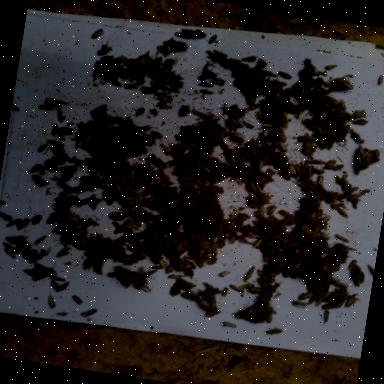pbw: (177, 124, 203, 136), (290, 76, 306, 94), (348, 128, 366, 144), (270, 126, 288, 142), (88, 193, 103, 212), (30, 174, 50, 188), (254, 268, 272, 283), (97, 38, 112, 56), (168, 256, 183, 274), (13, 240, 32, 254), (78, 218, 97, 232), (320, 300, 342, 312), (132, 282, 154, 294), (134, 122, 156, 134), (236, 80, 258, 92), (258, 190, 274, 206), (32, 247, 48, 263), (252, 64, 268, 80), (268, 150, 284, 166), (301, 212, 317, 228), (196, 294, 212, 310), (120, 270, 136, 286), (80, 306, 98, 320), (60, 162, 78, 176), (231, 311, 256, 321), (121, 136, 140, 149), (132, 210, 152, 222), (156, 39, 172, 54), (250, 220, 270, 232), (268, 112, 284, 127), (301, 140, 316, 156), (243, 264, 256, 282), (286, 162, 299, 180), (335, 77, 354, 89), (144, 65, 163, 77), (180, 170, 196, 184), (300, 242, 316, 256), (328, 201, 348, 212), (351, 156, 362, 176), (4, 232, 24, 243), (304, 134, 328, 143), (140, 268, 158, 280), (258, 170, 276, 182), (348, 192, 366, 204), (274, 228, 292, 240), (91, 25, 105, 40), (270, 279, 284, 294), (336, 123, 350, 138), (352, 107, 368, 120), (302, 57, 318, 70), (92, 62, 108, 75), (154, 179, 166, 196), (284, 86, 301, 98), (176, 278, 196, 288), (336, 242, 358, 251), (52, 202, 70, 213), (224, 56, 238, 70), (164, 38, 178, 52), (244, 178, 258, 192), (344, 258, 358, 272), (256, 276, 270, 290), (81, 256, 94, 271), (91, 260, 104, 275), (316, 260, 331, 273), (46, 292, 58, 308), (244, 101, 260, 113), (128, 220, 144, 232), (204, 306, 220, 318), (292, 162, 304, 178), (163, 186, 179, 198), (279, 216, 295, 228), (361, 150, 371, 169), (291, 298, 310, 308), (297, 290, 314, 301), (333, 232, 350, 243), (111, 253, 128, 264), (113, 222, 126, 236), (28, 213, 42, 226), (100, 191, 113, 205), (264, 95, 278, 108), (236, 62, 249, 76), (264, 326, 282, 336), (51, 227, 71, 236), (198, 226, 210, 241), (38, 268, 56, 278), (204, 50, 219, 62), (44, 97, 62, 107), (182, 258, 197, 270), (85, 157, 103, 167), (330, 80, 348, 90), (152, 217, 164, 232), (334, 207, 350, 218), (278, 254, 300, 262), (20, 251, 36, 262), (243, 225, 262, 234), (201, 67, 218, 77), (196, 71, 213, 81), (141, 200, 158, 210), (278, 208, 295, 218), (312, 76, 324, 90), (260, 98, 272, 112), (90, 232, 104, 244), (318, 213, 332, 225), (70, 294, 84, 306), (167, 200, 181, 212), (312, 287, 326, 299), (300, 250, 314, 262), (134, 146, 148, 158), (299, 66, 311, 80), (276, 140, 290, 152), (324, 158, 338, 170), (192, 210, 206, 222), (295, 231, 309, 243), (3, 246, 17, 258), (181, 134, 193, 148), (280, 240, 294, 252), (46, 175, 67, 183), (56, 246, 70, 258), (178, 104, 190, 118), (131, 187, 146, 198), (156, 97, 171, 108), (70, 185, 88, 194), (350, 117, 368, 126), (228, 284, 244, 294), (276, 170, 292, 180), (251, 194, 261, 210), (353, 264, 363, 280), (168, 280, 178, 296), (136, 132, 156, 140), (136, 264, 146, 280), (156, 74, 172, 84), (10, 236, 26, 246), (304, 275, 320, 285), (206, 288, 222, 298), (200, 281, 216, 291), (344, 295, 356, 308), (48, 279, 60, 292), (104, 167, 116, 180), (34, 233, 46, 246), (66, 195, 78, 208), (256, 291, 268, 304), (231, 76, 244, 88), (350, 197, 362, 210), (147, 252, 160, 264), (258, 106, 270, 119), (333, 191, 345, 204), (371, 148, 382, 162), (294, 104, 308, 115), (114, 53, 128, 64), (92, 244, 106, 255), (228, 207, 242, 218), (37, 164, 48, 178), (136, 162, 150, 173), (128, 59, 142, 70), (134, 106, 145, 120), (284, 231, 298, 242), (201, 255, 218, 264), (55, 181, 72, 190), (119, 193, 136, 202), (263, 220, 280, 229), (47, 138, 66, 146), (112, 266, 127, 276), (1, 242, 16, 252), (80, 172, 95, 182), (170, 144, 185, 154), (304, 163, 314, 178), (118, 254, 133, 264), (48, 157, 58, 172), (328, 129, 340, 141), (56, 124, 74, 132), (28, 162, 40, 174), (180, 260, 192, 272), (228, 135, 246, 143), (120, 181, 136, 190), (238, 281, 254, 290), (140, 87, 158, 95), (100, 112, 112, 124), (321, 309, 330, 325), (189, 290, 201, 302), (216, 56, 228, 68), (277, 70, 293, 79), (36, 141, 48, 153), (176, 245, 188, 257), (156, 256, 168, 268), (242, 306, 258, 315), (167, 272, 185, 280), (176, 40, 188, 52), (260, 306, 278, 314), (236, 152, 248, 164), (314, 268, 326, 280), (212, 49, 230, 57), (86, 162, 98, 174), (58, 280, 70, 292), (264, 82, 277, 93), (337, 98, 348, 111), (208, 193, 219, 206), (97, 69, 110, 80), (196, 197, 207, 210), (6, 217, 19, 228), (152, 80, 166, 90), (88, 142, 102, 152), (190, 177, 204, 187), (106, 137, 120, 147), (277, 259, 291, 269), (144, 182, 154, 196), (111, 134, 125, 144), (278, 235, 292, 245), (168, 82, 182, 92), (224, 155, 238, 165), (244, 194, 254, 208), (209, 241, 219, 255), (238, 148, 252, 158), (87, 148, 101, 158), (131, 230, 145, 240), (244, 138, 258, 148), (237, 222, 251, 232), (217, 268, 231, 278), (76, 196, 90, 206), (134, 240, 148, 250), (266, 232, 280, 242), (326, 276, 343, 284), (37, 103, 54, 111), (22, 268, 39, 276), (154, 89, 171, 97), (208, 78, 225, 86), (241, 54, 258, 62), (133, 276, 150, 284), (332, 246, 349, 254), (61, 194, 76, 203), (0, 331, 7, 350), (147, 240, 158, 252), (116, 171, 128, 182), (144, 220, 156, 231), (207, 33, 218, 45), (187, 229, 198, 241), (271, 264, 282, 276), (248, 148, 259, 160), (86, 119, 98, 130), (266, 204, 277, 216), (332, 174, 344, 185), (88, 109, 100, 120), (328, 191, 338, 204), (277, 152, 290, 162), (70, 226, 83, 236), (0, 211, 13, 221), (46, 212, 56, 225), (230, 116, 243, 126), (55, 148, 65, 161), (266, 88, 279, 98), (98, 103, 108, 116), (356, 144, 366, 157), (142, 233, 152, 246), (216, 230, 226, 243), (268, 214, 281, 224), (304, 99, 320, 107), (50, 274, 66, 282), (179, 292, 195, 300), (102, 74, 118, 82), (312, 158, 328, 166), (104, 162, 120, 170), (292, 264, 308, 272), (198, 80, 214, 88), (123, 82, 139, 90), (150, 130, 164, 139), (174, 238, 183, 252), (167, 77, 181, 86), (326, 135, 335, 149), (76, 120, 85, 134), (58, 222, 76, 229), (324, 62, 338, 71), (208, 113, 222, 122), (198, 87, 216, 94), (304, 66, 318, 75), (194, 110, 208, 119), (201, 129, 212, 140), (112, 239, 123, 250), (219, 139, 230, 150), (109, 124, 121, 134), (304, 278, 314, 290), (332, 162, 344, 172), (54, 192, 66, 202), (102, 236, 114, 246), (130, 240, 142, 250), (180, 28, 195, 36), (253, 110, 263, 122), (92, 164, 104, 174), (109, 212, 124, 220), (112, 180, 122, 192), (138, 178, 150, 188), (75, 216, 85, 228), (60, 236, 72, 246), (78, 234, 90, 244), (254, 236, 264, 248), (298, 86, 308, 98), (104, 56, 116, 66), (92, 119, 104, 129), (54, 164, 69, 172), (110, 235, 122, 245), (124, 198, 134, 210), (56, 128, 73, 135), (156, 95, 173, 102), (249, 233, 266, 240), (264, 240, 281, 247), (179, 284, 192, 293), (98, 250, 106, 264), (250, 286, 264, 294), (132, 78, 146, 86), (160, 178, 174, 186), (312, 166, 326, 174), (166, 73, 182, 80), (211, 227, 225, 235), (262, 262, 270, 276), (128, 70, 142, 78), (192, 120, 206, 128), (100, 54, 114, 62), (203, 153, 219, 160), (72, 241, 88, 248), (52, 200, 68, 207), (163, 246, 171, 260), (324, 294, 338, 302), (33, 263, 49, 270), (84, 181, 100, 188), (61, 232, 77, 239), (22, 247, 38, 254), (131, 161, 145, 169), (174, 31, 190, 38), (260, 150, 268, 164), (226, 119, 236, 130), (264, 312, 274, 323), (292, 247, 302, 258), (314, 125, 324, 136), (324, 76, 335, 86), (113, 68, 124, 78), (55, 131, 66, 141), (253, 182, 263, 193), (122, 57, 134, 66), (150, 172, 159, 184), (330, 289, 342, 298), (312, 87, 324, 96), (252, 210, 264, 219), (228, 132, 246, 138), (200, 164, 212, 173), (308, 294, 317, 306), (318, 124, 327, 136), (178, 137, 190, 146), (358, 187, 370, 196), (122, 116, 131, 128), (208, 123, 220, 132), (261, 126, 270, 138), (221, 321, 236, 328), (82, 122, 90, 135), (322, 283, 330, 296), (187, 144, 200, 152), (236, 235, 249, 243), (258, 139, 271, 147), (350, 267, 358, 280), (106, 270, 119, 278), (59, 188, 72, 196), (328, 260, 336, 273), (266, 155, 276, 165), (157, 170, 167, 180), (314, 174, 324, 184), (166, 227, 176, 237), (310, 268, 320, 278), (121, 67, 131, 77), (227, 235, 237, 245), (337, 291, 347, 301), (282, 268, 292, 278), (164, 262, 173, 273), (116, 274, 125, 285), (315, 249, 324, 260), (56, 224, 70, 231), (60, 209, 74, 216), (50, 143, 64, 150), (138, 195, 152, 202), (264, 70, 278, 77), (184, 200, 191, 214), (242, 121, 256, 128), (98, 184, 112, 191), (128, 168, 136, 180), (312, 240, 324, 248), (111, 115, 123, 123), (302, 180, 314, 188), (302, 186, 314, 194), (190, 240, 198, 252), (92, 248, 100, 260), (255, 158, 263, 170), (76, 158, 88, 166), (150, 250, 162, 258), (216, 206, 224, 218), (210, 76, 226, 82), (178, 155, 186, 167), (102, 124, 110, 136), (82, 134, 90, 146), (42, 158, 50, 170), (20, 217, 28, 229), (44, 244, 52, 256), (221, 286, 229, 298), (343, 178, 351, 190), (172, 196, 180, 208), (116, 122, 128, 130), (325, 247, 337, 255), (32, 266, 44, 274), (32, 274, 44, 282), (293, 100, 306, 107), (51, 122, 58, 135), (324, 86, 334, 95), (55, 112, 64, 122), (171, 190, 180, 200), (185, 166, 200, 172), (323, 256, 338, 262), (260, 122, 275, 128), (162, 147, 172, 156), (247, 143, 255, 154), (314, 193, 322, 204), (161, 222, 172, 230), (164, 240, 175, 248), (197, 252, 208, 260), (154, 246, 165, 254), (15, 218, 22, 230), (184, 219, 198, 225), (126, 245, 138, 252), (118, 198, 130, 205), (360, 270, 366, 284), (168, 209, 180, 216), (198, 246, 212, 252), (260, 216, 274, 222), (292, 272, 306, 278), (334, 282, 348, 288), (274, 246, 283, 255), (138, 59, 148, 67), (334, 252, 344, 260), (238, 162, 248, 170), (256, 313, 264, 323), (324, 128, 332, 138), (184, 268, 194, 276), (256, 204, 266, 212), (334, 261, 342, 271), (366, 264, 374, 274), (341, 171, 349, 181), (318, 112, 326, 122), (195, 138, 205, 146), (48, 146, 58, 154), (108, 249, 116, 259), (219, 170, 229, 178), (239, 87, 249, 95), (296, 109, 304, 119), (318, 184, 328, 192), (124, 223, 132, 233), (310, 230, 320, 238), (156, 205, 169, 211), (165, 218, 178, 224), (160, 104, 173, 110), (110, 80, 123, 86), (201, 218, 212, 225), (112, 252, 119, 263), (195, 260, 204, 268), (124, 238, 136, 244), (140, 85, 152, 91), (273, 256, 281, 265), (190, 161, 202, 167), (240, 232, 252, 238), (160, 68, 172, 74), (70, 236, 82, 242), (193, 225, 202, 233), (282, 109, 290, 118), (151, 264, 163, 270), (219, 128, 226, 138), (310, 242, 320, 249), (262, 252, 269, 262), (216, 241, 226, 248), (284, 264, 294, 271), (198, 219, 208, 226), (198, 243, 212, 248), (191, 250, 198, 260), (195, 188, 202, 198), (297, 182, 308, 188), (319, 234, 330, 240), (244, 96, 255, 102), (306, 262, 312, 273), (156, 201, 167, 207), (210, 297, 216, 308), (202, 225, 210, 233), (165, 202, 173, 210), (268, 246, 276, 254), (310, 210, 318, 218), (11, 104, 20, 111), (238, 176, 247, 183), (316, 296, 322, 306), (378, 74, 384, 84), (118, 149, 128, 155), (167, 252, 177, 258), (106, 61, 112, 71), (196, 232, 202, 242), (170, 242, 176, 252), (182, 254, 192, 260), (100, 170, 110, 176), (147, 166, 154, 174), (305, 82, 312, 90), (228, 220, 235, 228), (224, 232, 231, 240), (198, 249, 209, 254), (181, 211, 186, 221), (240, 229, 250, 234), (136, 172, 144, 178), (273, 140, 279, 148), (268, 264, 274, 272), (158, 239, 166, 245), (182, 237, 188, 245), (124, 258, 132, 264), (353, 280, 360, 286), (192, 222, 200, 227), (157, 198, 167, 202), (0, 198, 6, 204), (178, 199, 182, 207)
